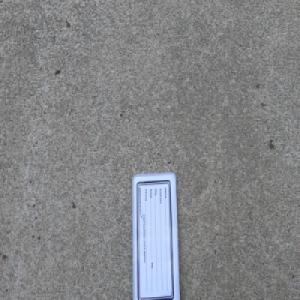LuggageTag: (130, 168, 181, 300)
